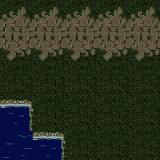Interaction: (43, 129, 75, 160), (0, 93, 43, 112), (24, 111, 44, 143)
Slow: (0, 109, 29, 160), (29, 140, 60, 160)
